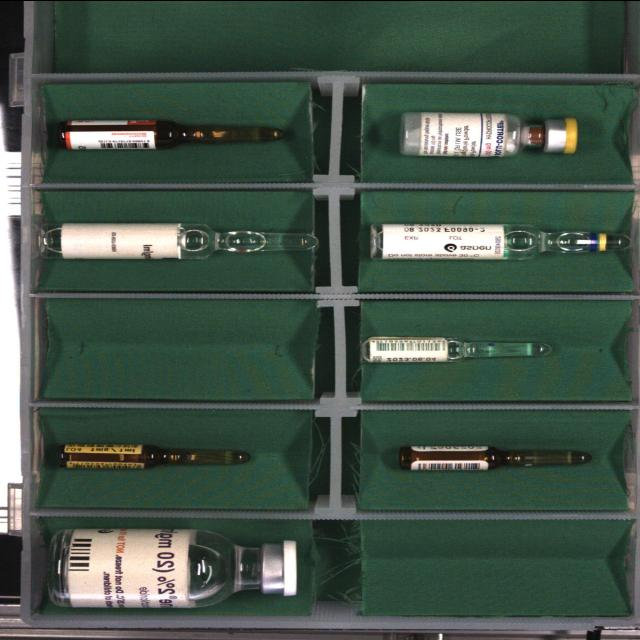Vials: (49, 528, 297, 607), (401, 111, 578, 156)
